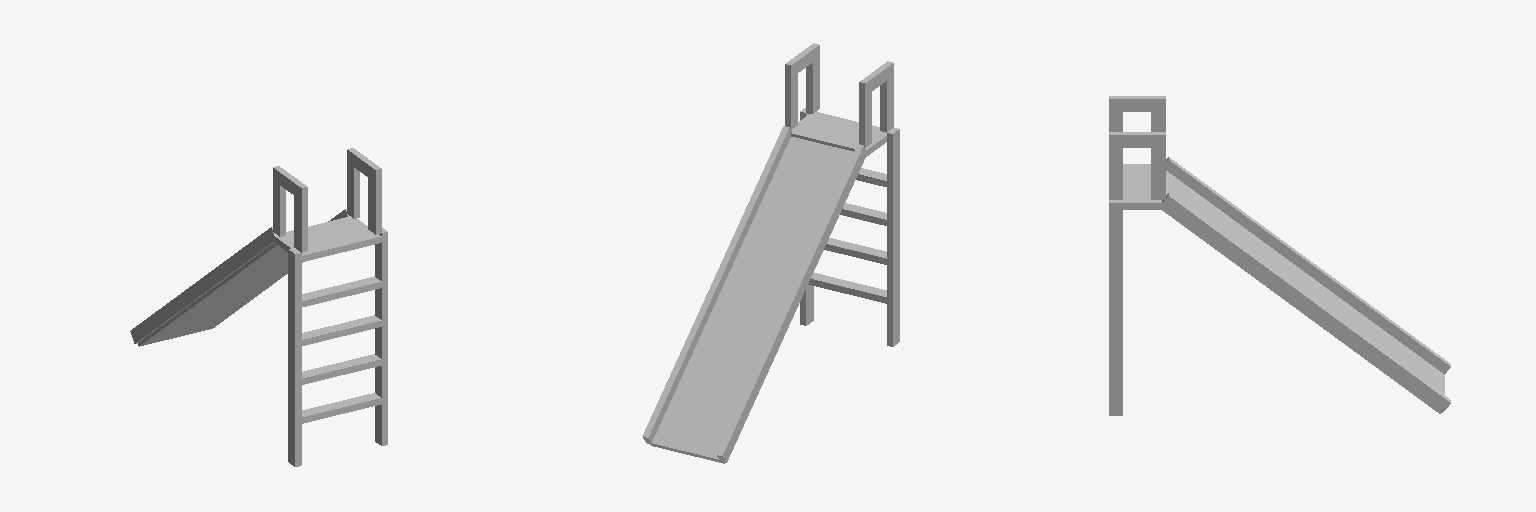
File: escorregador.obj
The picture shows the model from 3 angles: view 1: azimuth 30°, elevation 25°; view 2: azimuth 150°, elevation 25°; view 3: azimuth 270°, elevation 25°; orthographic projection.
Parts seen in each view (by area): view 1: escorregador, escada, hasteE, escorregador_bordaE, hasteD, piso, apoioTD, apoioTE, apoioDD, apoioDE; view 2: escorregador, escorregador_bordaE, escorregador_bordaD, escada, hasteE, piso, apoioDE, apoioDD, apoioTE, apoioTD, hasteD; view 3: escorregador, escorregador_bordaD, escorregador_bordaE, hasteD, piso, apoioDD, apoioTD, apoioDE.
Part boxes in pixels (x1,y1,x2,y2): escorregador: (138, 243, 302, 346); escada: (302, 276, 381, 423); hasteE: (288, 248, 301, 466); escorregador_bordaE: (130, 227, 277, 343); hasteD: (375, 228, 387, 445); piso: (273, 217, 381, 261); apoioTD: (368, 163, 381, 234); apoioTE: (294, 181, 307, 252); apoioDD: (347, 148, 359, 218); apoioDE: (273, 166, 285, 236); escorregador: (649, 137, 853, 463); escorregador_bordaE: (716, 144, 867, 462); escorregador_bordaD: (642, 126, 791, 443); escada: (808, 168, 886, 303); hasteE: (887, 128, 899, 346); piso: (791, 112, 886, 156); apoioDE: (859, 77, 871, 147); apoioDD: (785, 59, 797, 129); apoioTE: (880, 61, 893, 132); apoioTD: (806, 43, 819, 113); hasteD: (800, 108, 813, 325); escorregador: (1162, 171, 1444, 413); escorregador_bordaD: (1160, 193, 1450, 412); escorregador_bordaE: (1166, 157, 1450, 374); hasteD: (1109, 200, 1122, 415); piso: (1123, 164, 1165, 209); apoioDD: (1151, 132, 1165, 199); apoioTD: (1109, 132, 1122, 199); apoioDE: (1151, 96, 1165, 131).
Bounding box in the file's own units: 0.9375 × 2.71 × 3.